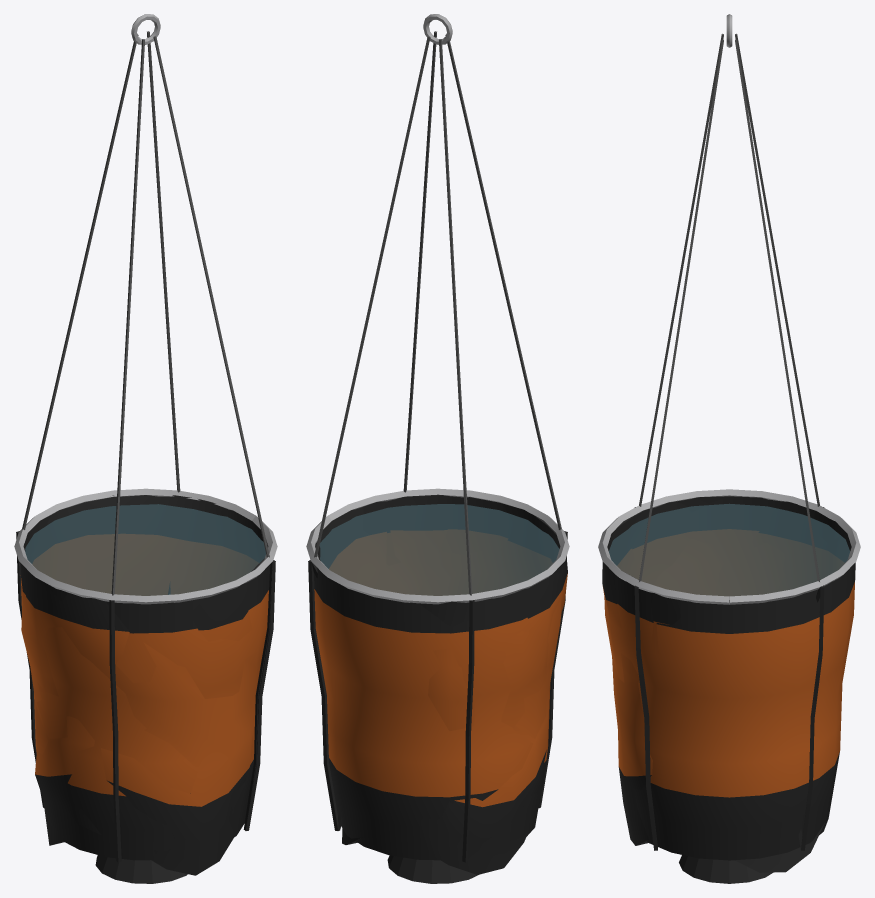
The model's file is fire-bucket.glb.
3 renders of one model, left to right at view 1: azimuth 30°, elevation 25°; view 2: azimuth 150°, elevation 25°; view 3: azimuth 270°, elevation 25°, orthographic.
Visible parts, largest first — view 1: bucket_dented, bucket, water, rigging, valve; view 2: bucket, bucket_dented, water, rigging, valve; view 3: bucket, water, bucket_dented, rigging, valve.
Part boxes in pixels (<box>): bucket_dented: <box>20,495,272,875</box>; bucket: <box>14,488,277,862</box>; water: <box>25,504,265,595</box>; rigging: <box>22,14,269,595</box>; valve: <box>95,855,187,883</box>; bucket: <box>306,488,569,862</box>; bucket_dented: <box>311,494,567,874</box>; water: <box>319,504,559,595</box>; rigging: <box>314,14,561,595</box>; valve: <box>387,855,477,883</box>; bucket: <box>598,489,860,860</box>; water: <box>608,503,850,596</box>; bucket_dented: <box>602,496,851,872</box>; rigging: <box>639,14,819,581</box>; valve: <box>679,855,772,883</box>.
Bounding box in the file's own units: 1.14 × 4.1 × 1.14.
